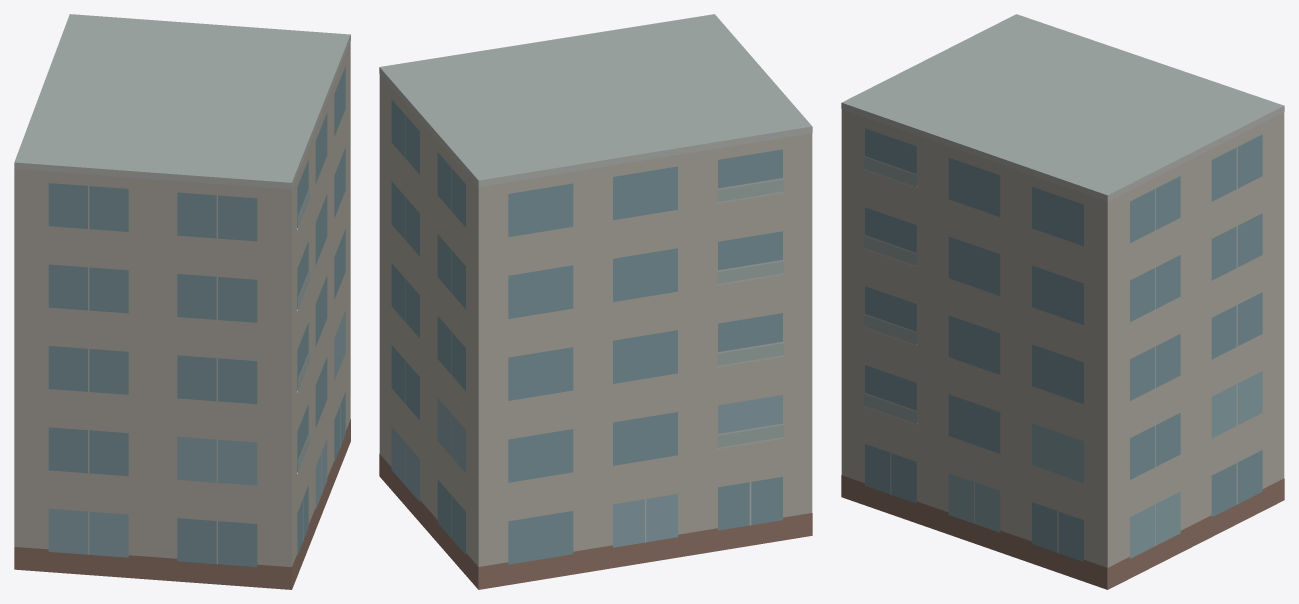
File: survey-upis-33013790.glb
3 renders of one model, left to right at view 1: azimuth 30°, elevation 25°; view 2: azimuth 150°, elevation 25°; view 3: azimuth 270°, elevation 25°, orthographic. The views are drawn at different scales.
Parts seen in each view (by area): view 1: survey-upis-33013790.tmp; view 2: survey-upis-33013790.tmp; view 3: survey-upis-33013790.tmp.
Boxes of the visible parts, box(x1,y1,x2,y2) form: survey-upis-33013790.tmp: box(14, 14, 350, 589); survey-upis-33013790.tmp: box(379, 14, 812, 589); survey-upis-33013790.tmp: box(841, 14, 1284, 589).
Size of the model in its own units: 15.05 by 15.25 by 15.52.
